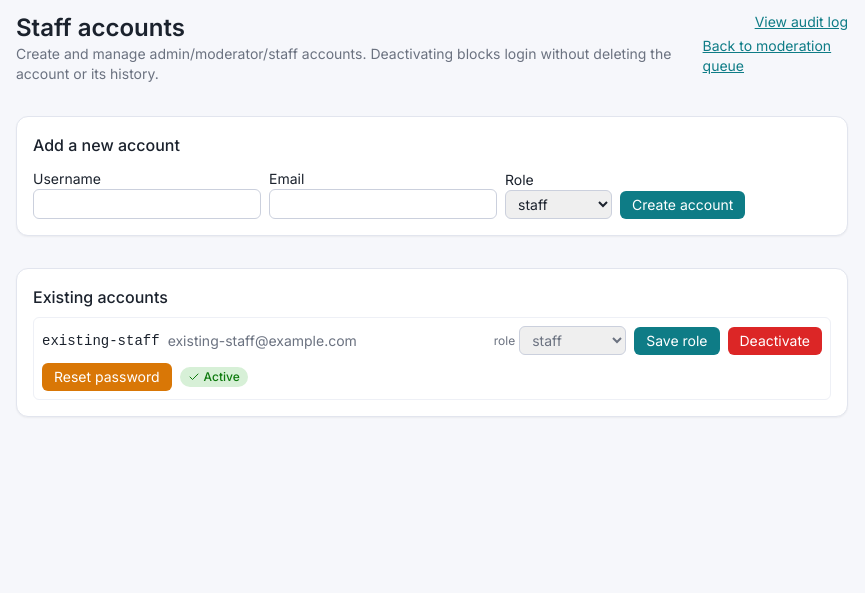
it: StaffAccountsPage (GitHub issue #591, Phase 42, D99) › resetting a password shows the new one-time password
Expected: the text "existing-staff" is shown, 42,330 -> 160,350
Click the button "Reset password": {"x": 107, "y": 377} 42,363 -> 172,391
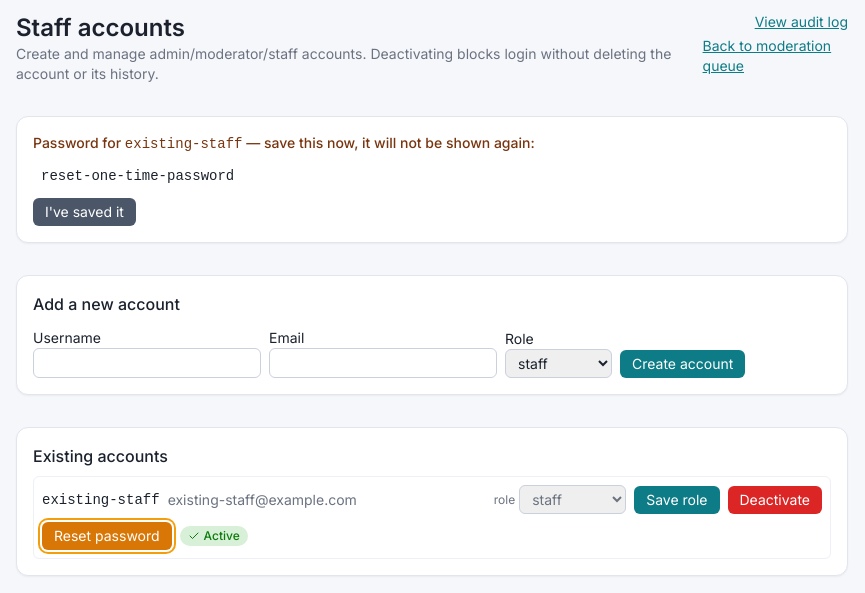
Result: the text "reset-one-time-password" is shown at 33,162 -> 831,190
